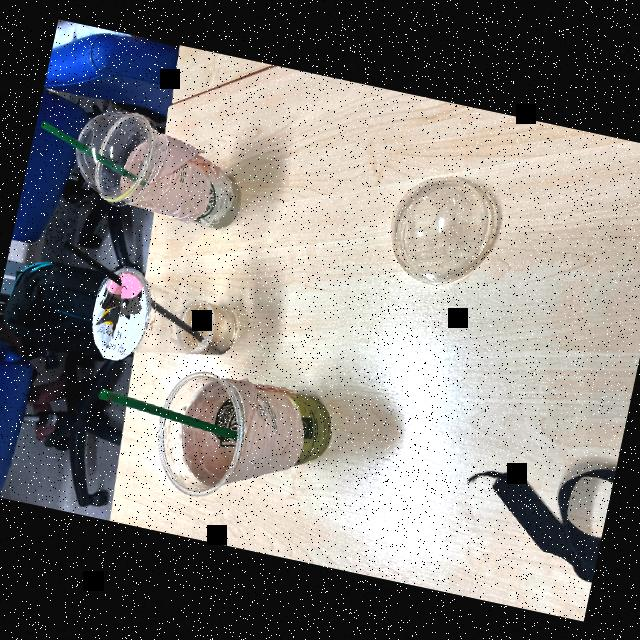plastic_cup: (140, 361, 340, 521), (83, 105, 260, 242), (70, 257, 246, 381)
plastic_cup_lid: (372, 160, 512, 296), (64, 94, 166, 214)
straw: (34, 228, 231, 351), (78, 370, 274, 456), (30, 117, 161, 194)
